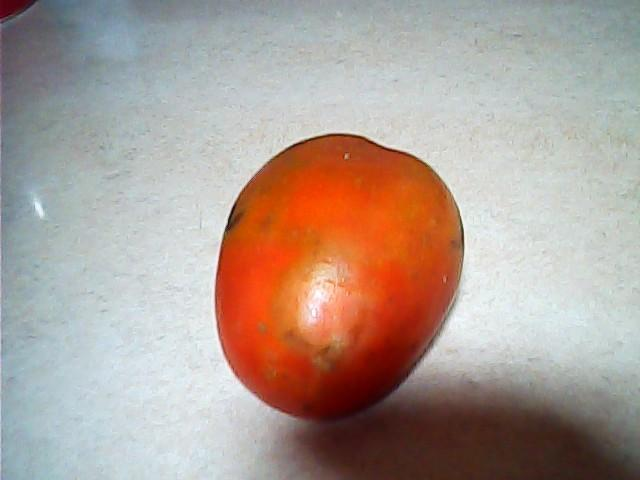defectuoso: (211, 127, 465, 427)
